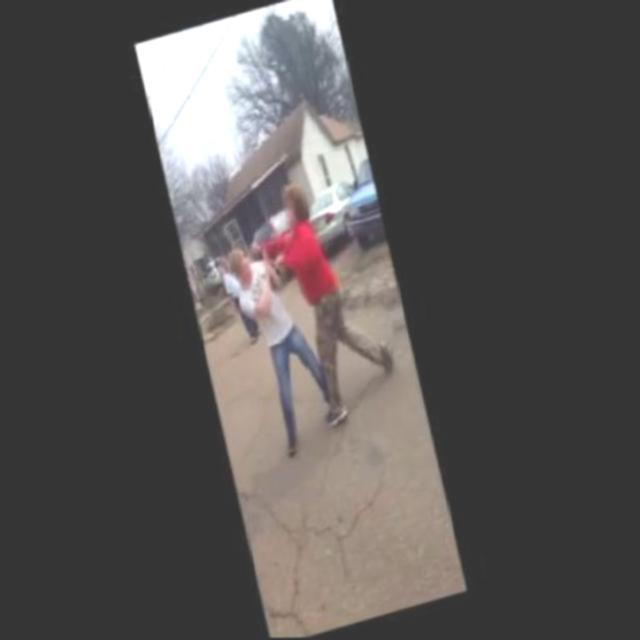fight: (206, 173, 410, 465)
